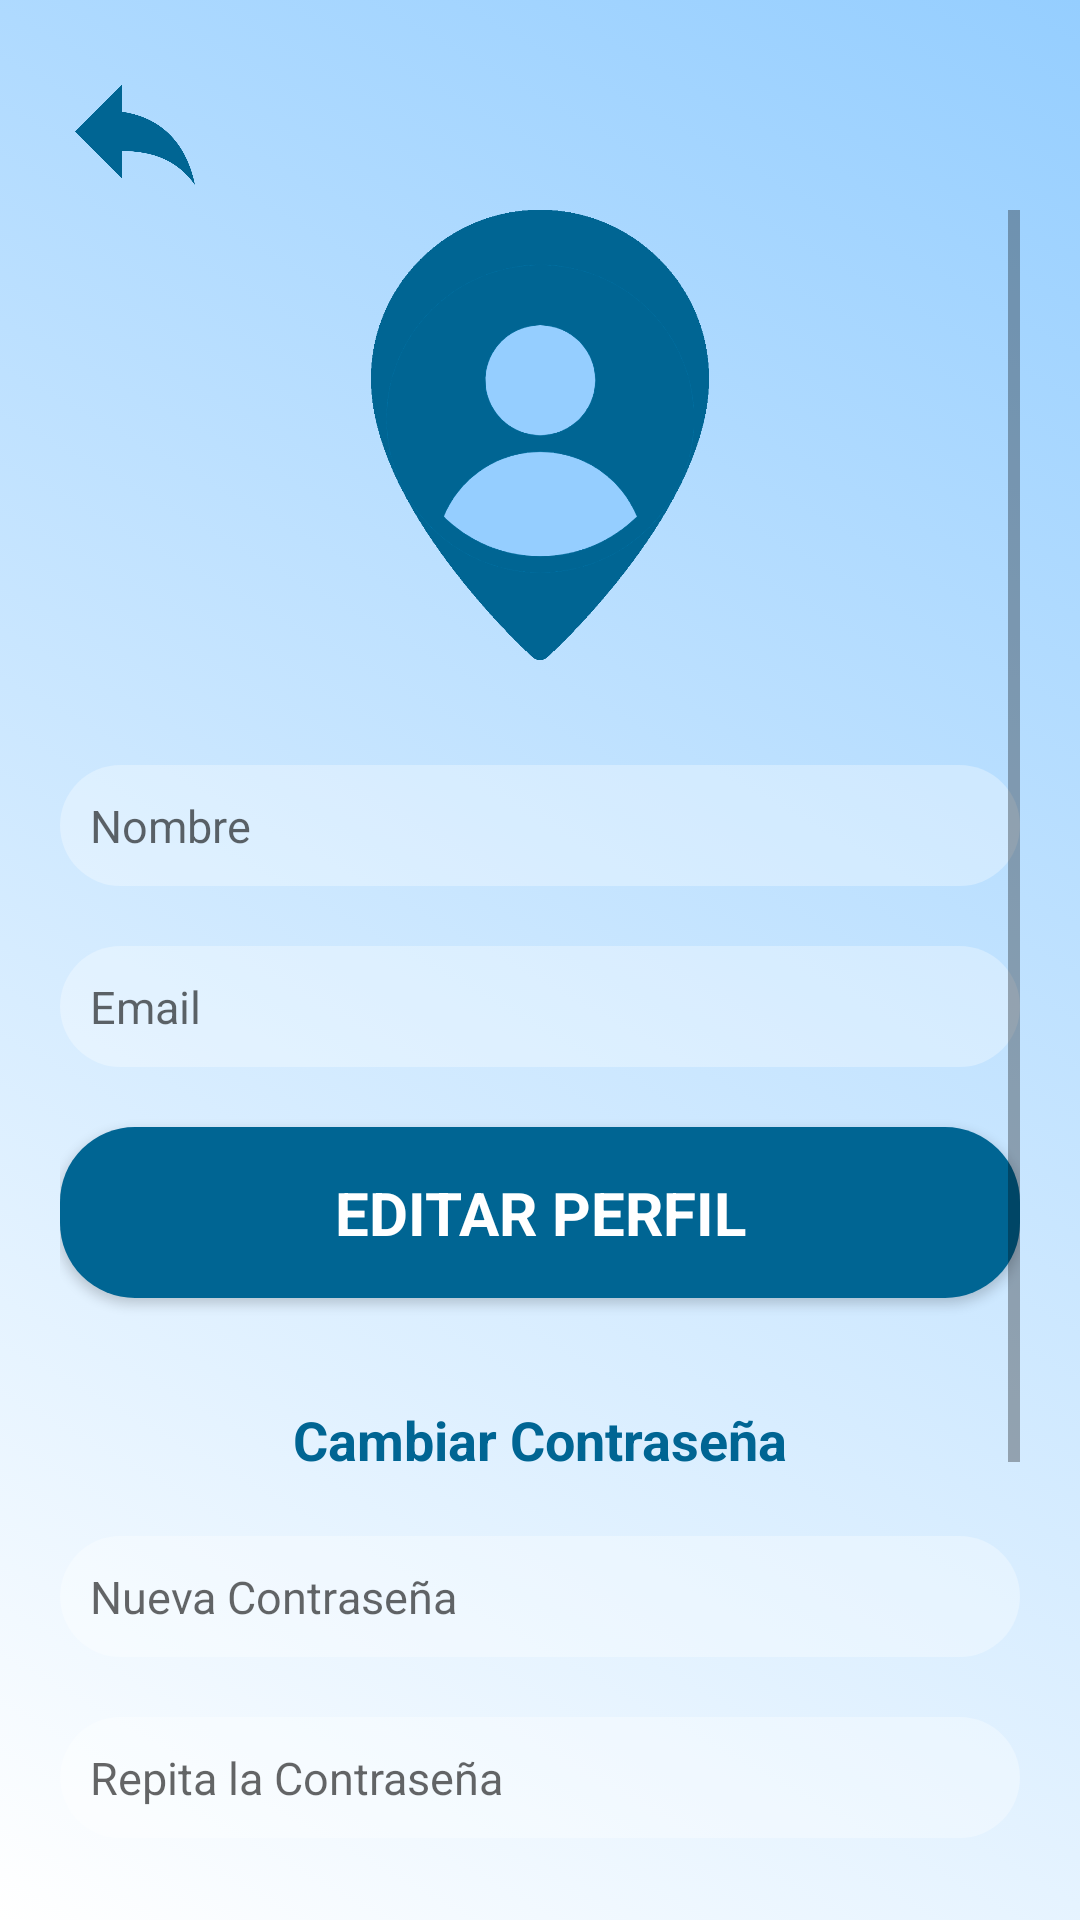

Icon bounding boxes for this 1080 x 1920 phone screenshot, format (x1, y1, x2, y2):
backarrowb: (75, 85, 195, 185)
